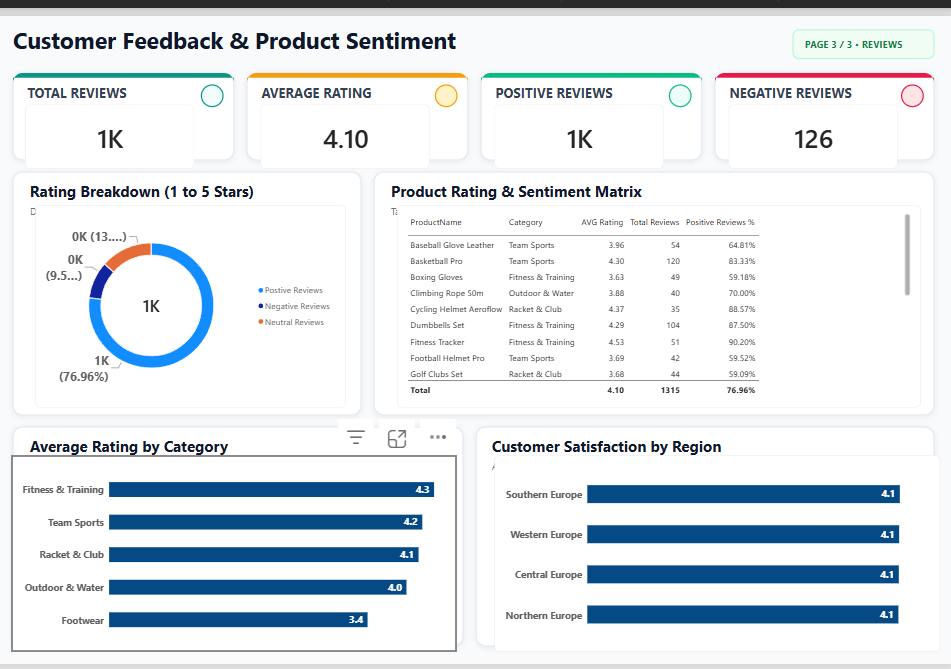

The dashboard page shown, as its layout file describes it:
{"tool":"powerbi","page":{"name":"Customer Feedback","canvas":[1920,1080],"ordinal":2},"visuals":[{"type":"cardVisual","fields":{"Data":["Key Measure.Total Reviews"]},"box":[370.9,146.4,282.5,107.5],"z":0},{"type":"cardVisual","fields":{"Data":["Key Measure.AVG Rating"]},"box":[763.7,146.4,282.5,107.5],"z":1000},{"type":"cardVisual","fields":{"Data":["Key Measure.Postive Reviews"]},"box":[1151.6,146.4,282.5,107.5],"z":2000},{"type":"cardVisual","fields":{"Data":["Key Measure.Negative Reviews"]},"box":[1542,146.4,282.5,107.5],"z":3000},{"type":"donutChart","fields":{"Y":["Key Measure.Postive Reviews","Key Measure.Negative Reviews","Key Measure.Neutral Reviews"]},"box":[387.5,315,517.5,337.5],"z":3001},{"type":"barChart","fields":{"Category":["Dim_products.Category"],"Y":["Key Measure.AVG Rating"]},"box":[347.5,732.5,742.5,327.5],"z":3002},{"type":"barChart","fields":{"Category":["Dim_customers.CountryCategory"],"Y":["Key Measure.AVG Rating"]},"box":[1152.5,732.5,742.5,327.5],"z":3003},{"type":"tableEx","fields":{"Values":["Dim_products.ProductName","Dim_products.Category","Key Measure.AVG Rating","Key Measure.Total Reviews","Key Measure.Positive Reviews %"]},"box":[990.6,314.7,658.8,336.7],"z":3004},{"type":"slicer","fields":{"Values":["Dim_products.PriceCategory"]},"box":[27.5,525,267.5,55],"z":3005},{"type":"slicer","fields":{"Values":["Fact_customer_reviews.Rating"]},"box":[30,627.5,267.5,55],"z":3006},{"type":"slicer","fields":{"Values":["dCalendar.Date.Variation.Date Hierarchy.Year","dCalendar.Month Name"]},"box":[27.5,427.5,267.5,67.5],"z":3007},{"type":"actionButton","box":[26.8,190.3,268.4,53.7],"z":3008},{"type":"actionButton","box":[29.3,119.6,268.4,51.2],"z":3009}]}

Visuals, with their boxes on the page's 1920x1080 design canvas (x1, y1, x2, y2). These are canvas units, not pixel positions in the 951x669 screenshot, which may show the page scaled, cropped or inside an application window:
cardVisual - Key Measure.Total Reviews: <region>371, 146, 653, 254</region>
cardVisual - Key Measure.AVG Rating: <region>764, 146, 1046, 254</region>
cardVisual - Key Measure.Postive Reviews: <region>1152, 146, 1434, 254</region>
cardVisual - Key Measure.Negative Reviews: <region>1542, 146, 1824, 254</region>
donutChart - Key Measure.Postive Reviews x Key Measure.Negative Reviews: <region>388, 315, 905, 652</region>
barChart - Dim_products.Category x Key Measure.AVG Rating: <region>348, 732, 1090, 1060</region>
barChart - Dim_customers.CountryCategory x Key Measure.AVG Rating: <region>1152, 732, 1895, 1060</region>
tableEx - Dim_products.ProductName x Dim_products.Category: <region>991, 315, 1649, 651</region>
slicer - Dim_products.PriceCategory: <region>28, 525, 295, 580</region>
slicer - Fact_customer_reviews.Rating: <region>30, 628, 298, 682</region>
slicer - dCalendar.Date.Variation.Date Hierarchy.Year x dCalendar.Month Name: <region>28, 428, 295, 495</region>
actionButton: <region>27, 190, 295, 244</region>
actionButton: <region>29, 120, 298, 171</region>
